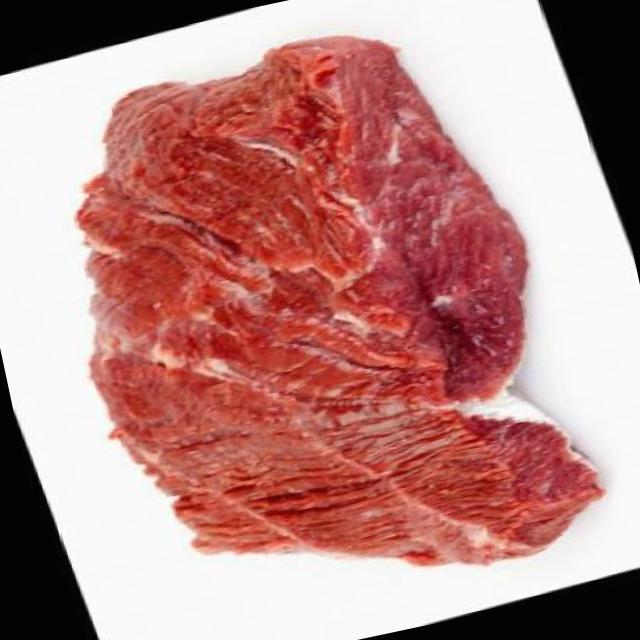beef: (34, 1, 626, 637)
